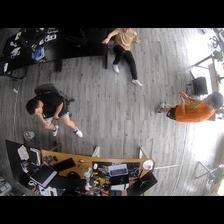fall: (101, 28, 144, 88)
normal: (24, 87, 87, 144), (154, 89, 224, 122)
